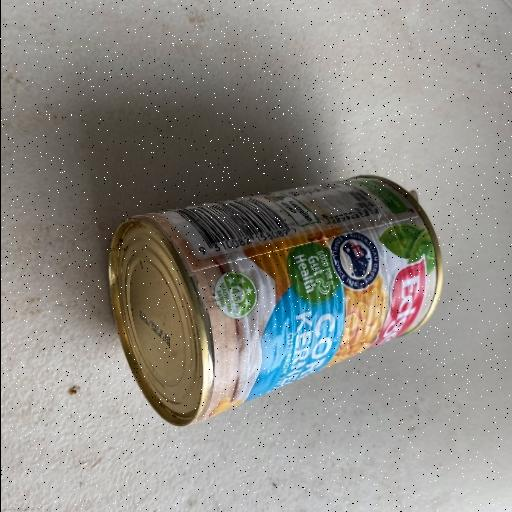Metal: (106, 172, 444, 428)
